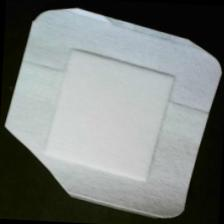Cut: (1, 5, 224, 222)
